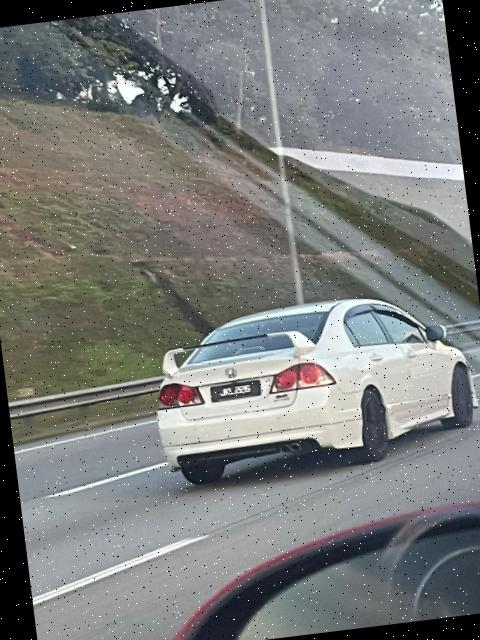License_Plate: (207, 377, 264, 411)
car: (144, 282, 480, 486)
